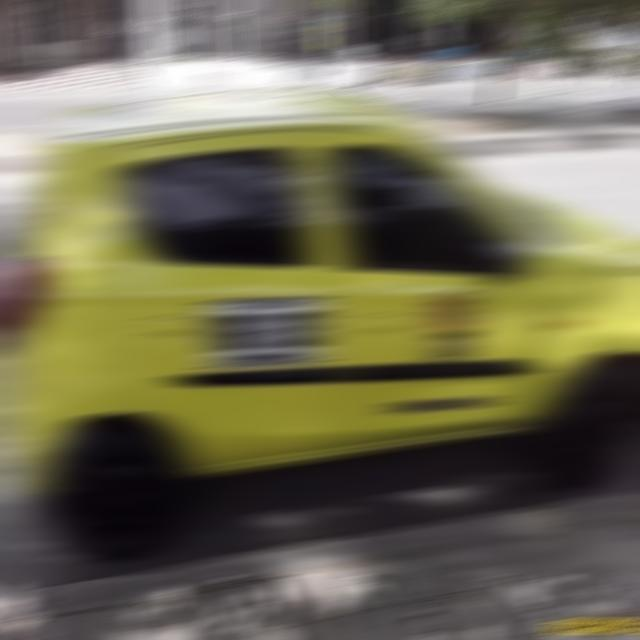Taxi: (0, 102, 640, 575)
